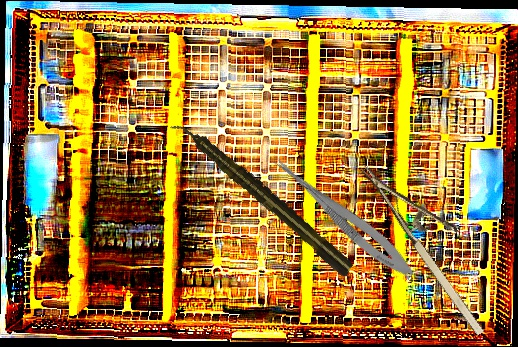Handpiece: (169, 112, 358, 281)
Micro Scissor: (262, 149, 421, 285)
Needle Holder: (360, 141, 512, 340)
